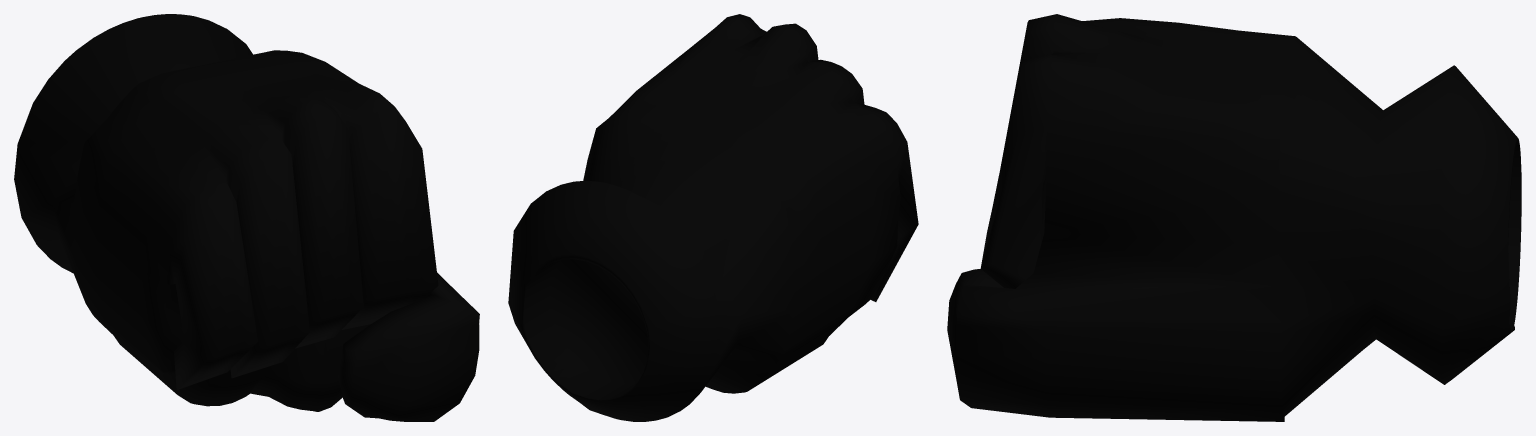
File: armR.obj
The picture shows the model from 3 angles, left to right: view 1: azimuth 30°, elevation 25°; view 2: azimuth 150°, elevation 25°; view 3: azimuth 270°, elevation 25°; orthographic projection. The views are drawn at different scales.
Parts seen in each view (by area): view 1: 立方体; view 2: 立方体; view 3: 立方体.
Part boxes in pixels (left/top/right/bottom): 立方体: left=14, top=14, right=479, bottom=421; 立方体: left=508, top=14, right=918, bottom=421; 立方体: left=947, top=14, right=1521, bottom=421.
Bounding box in the file's own units: 11.38 × 13.21 × 18.41.
1 material, 1 textured.
